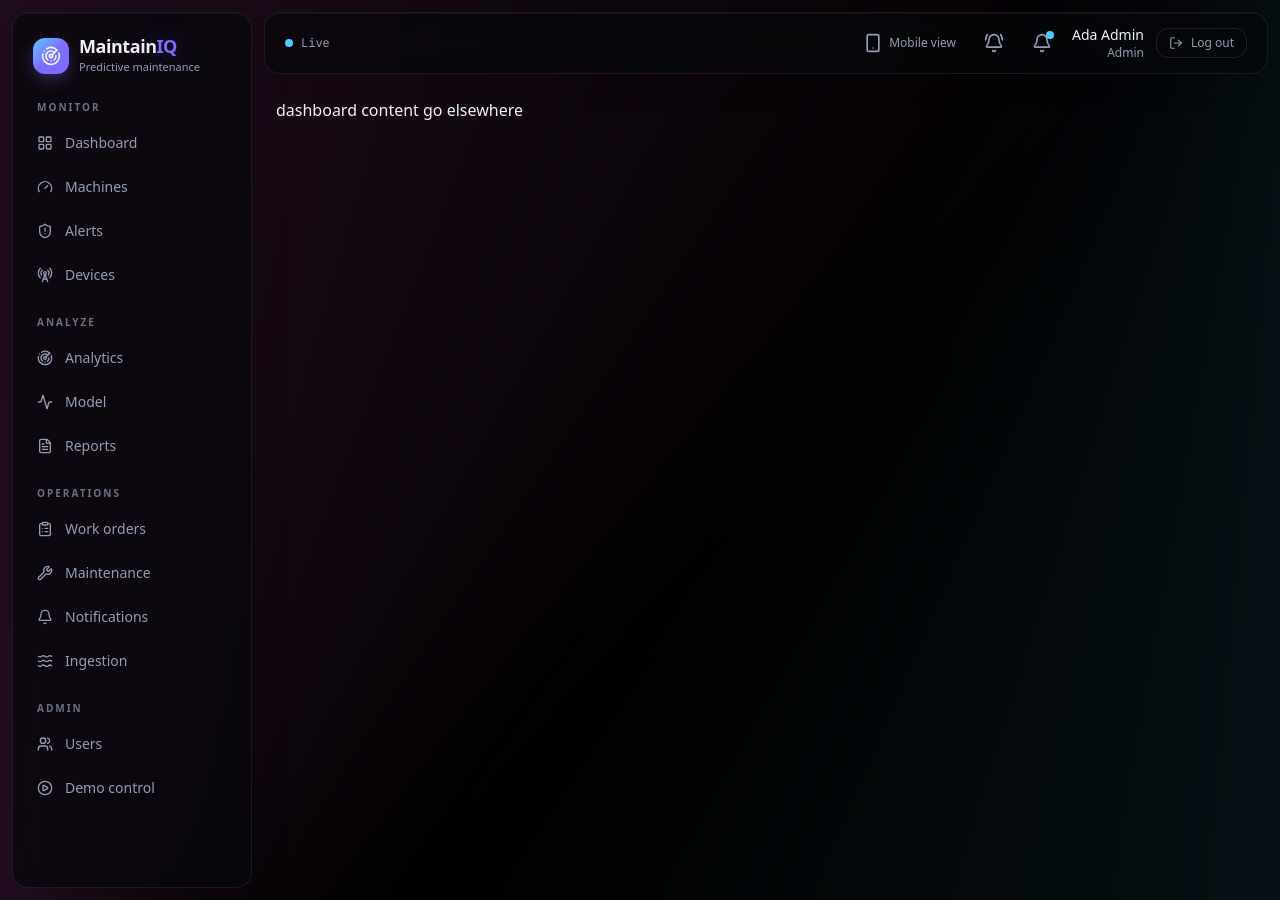
it: AppShell › marks the notification bell as unseen on a new alert and clears it when visiting notifications
This screenshot has width=1280, height=900.
Expected: the text "dashboard content" is shown, [276,99,423,121]
Click the link named "notifications" at {"x": 1043, "y": 42}, box [1032,31,1054,53]
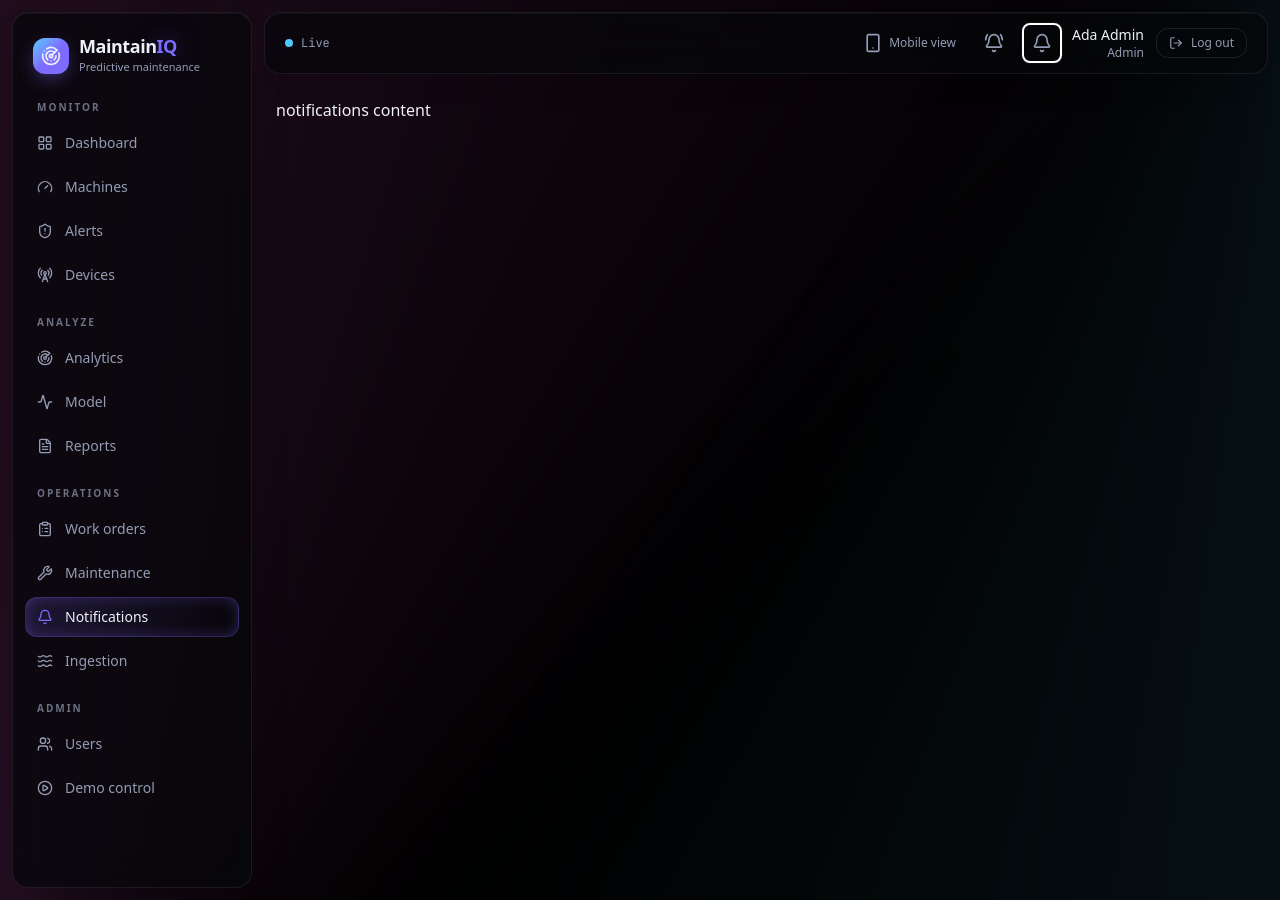
Result: the text "notifications content" is shown at [276,99,431,121]
